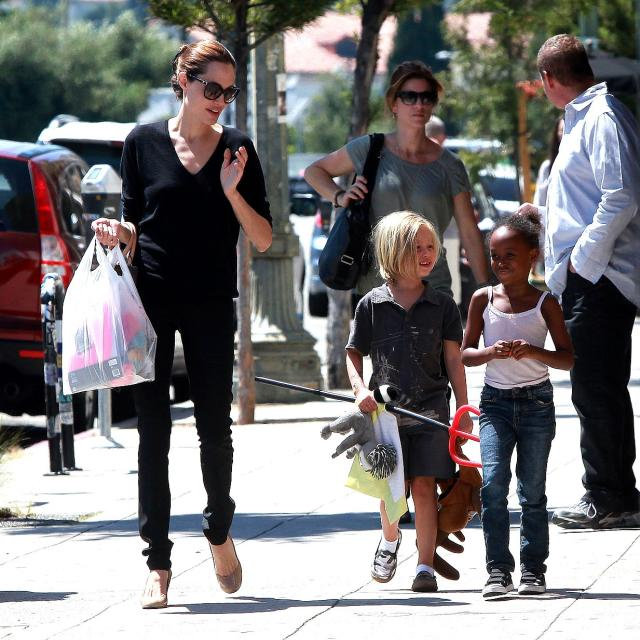body: (0, 366, 640, 620), (88, 38, 276, 610), (296, 60, 492, 523), (535, 30, 640, 529), (343, 210, 474, 594), (456, 206, 577, 603), (421, 114, 448, 146)
